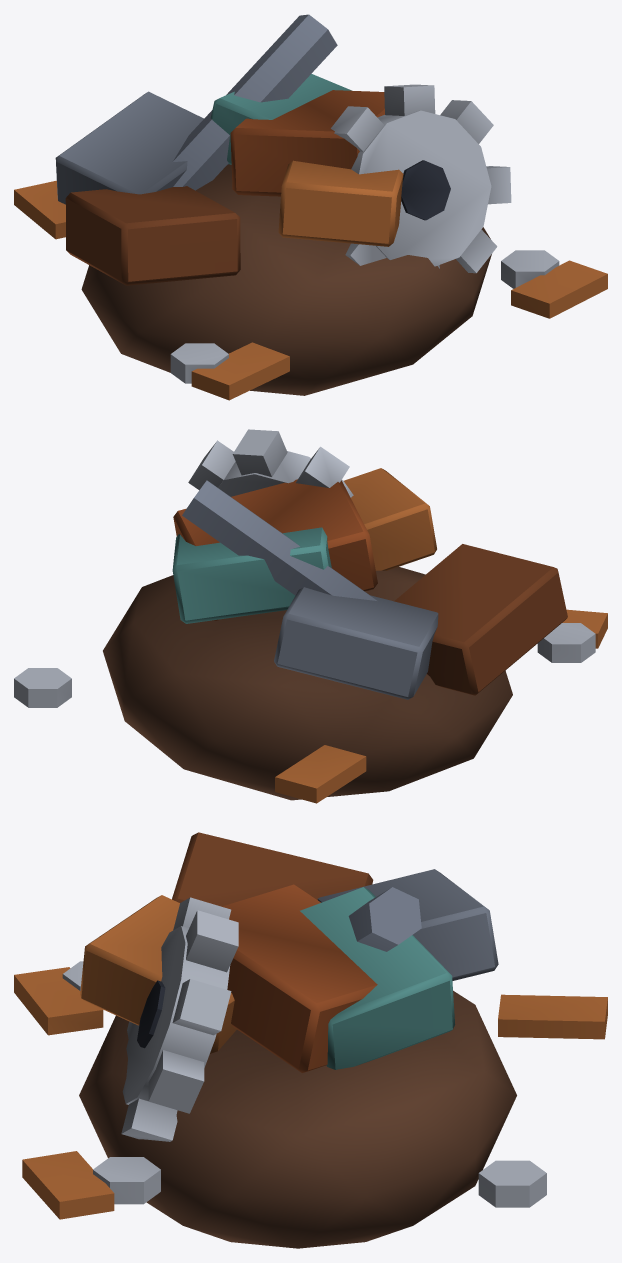
File: n_scrap_3.glb
3 renders of one model, top to bottom at view 1: azimuth 30°, elevation 25°; view 2: azimuth 150°, elevation 25°; view 3: azimuth 270°, elevation 25°, orthographic. The views are drawn at different scales.
Parts seen in each view (by area): view 1: body; view 2: body; view 3: body.
Boxes of the visible parts, <box> form: body: <box>14,14,607,400</box>; body: <box>14,429,607,803</box>; body: <box>14,832,607,1248</box>.
Size of the model in its own units: 1.2 by 0.8217 by 1.22.
